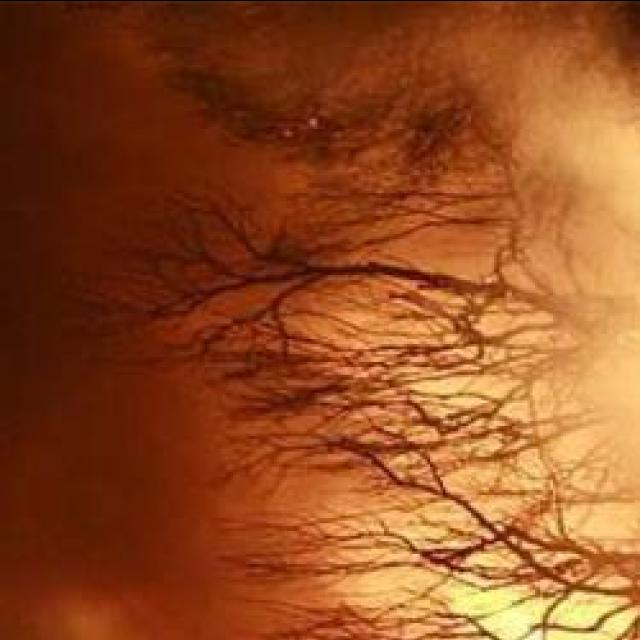smoke: (484, 0, 640, 108), (532, 90, 640, 208), (0, 471, 71, 637), (576, 331, 640, 451), (20, 586, 144, 640), (569, 201, 640, 281)
